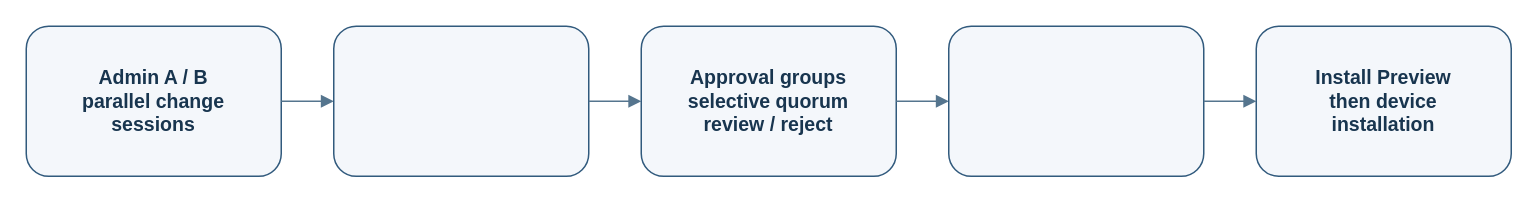
This 1538x203 diagram has some shape labels left out. Here are the shapes that lost their labels. From the top down, the box of each, then its label:
(332, 25, 589, 176): Session diff isolated ADOM change sets
(947, 25, 1204, 176): ADOM database approved change committed
